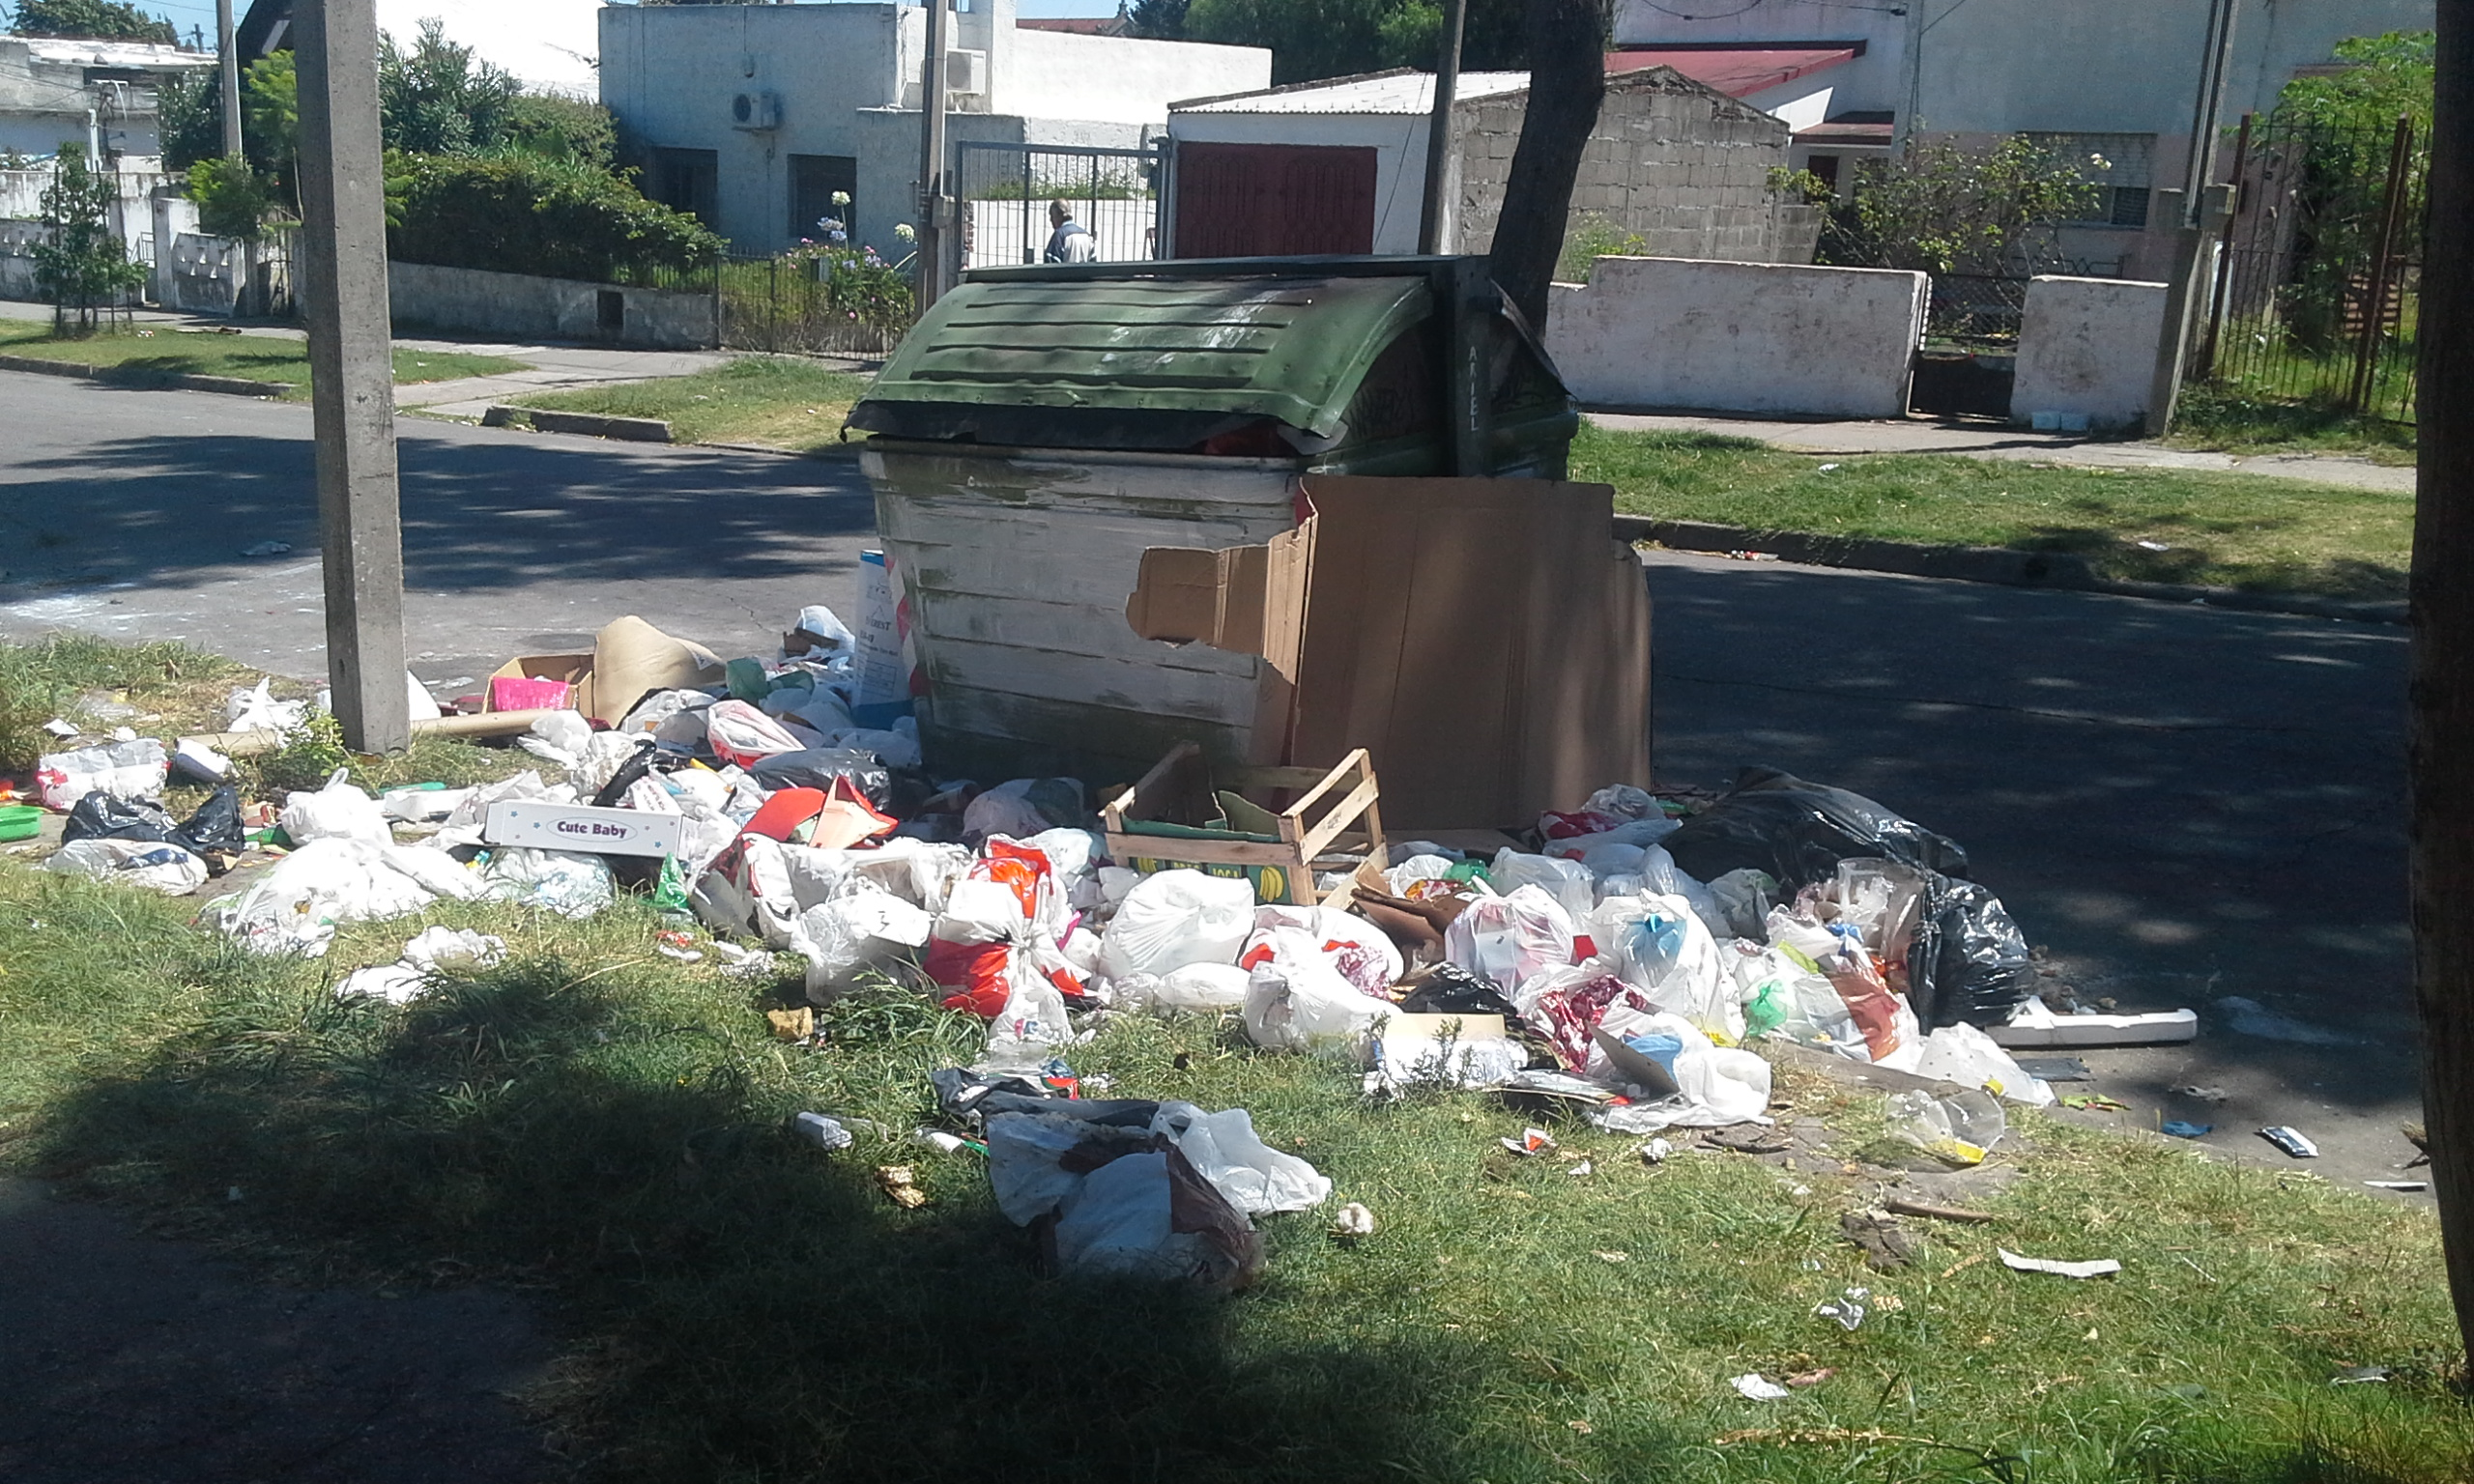container: (848, 251, 1629, 903)
